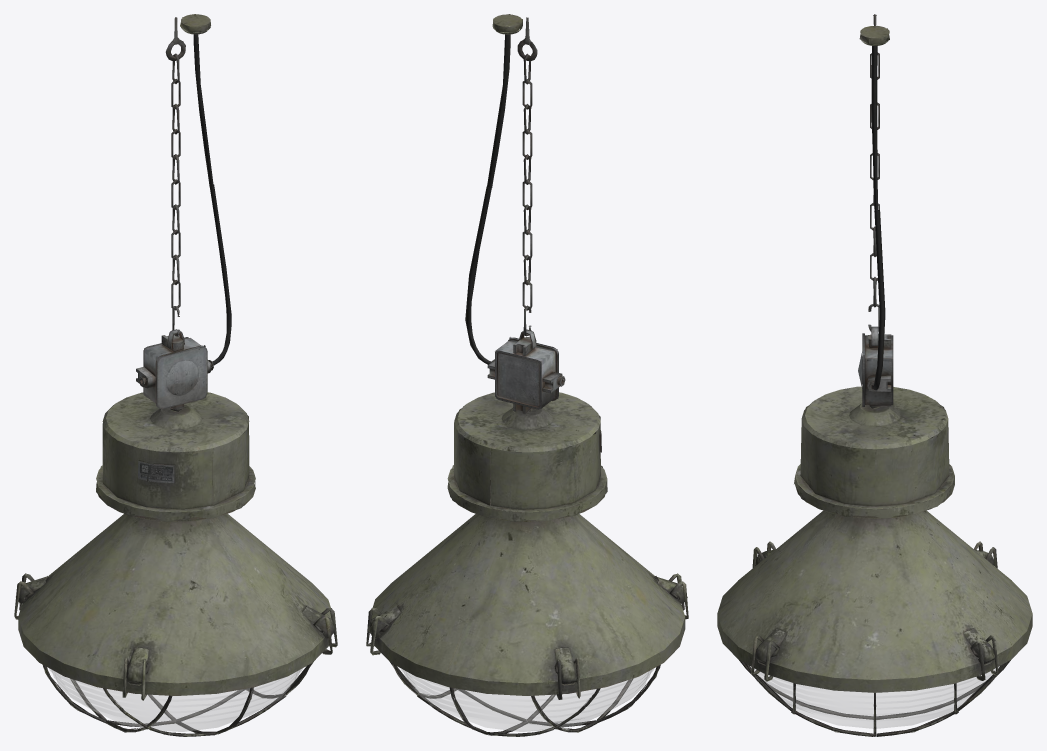
File: ph_hanging_lamp.gltf
The picture shows the model from 3 angles, left to right: view 1: azimuth 30°, elevation 25°; view 2: azimuth 150°, elevation 25°; view 3: azimuth 270°, elevation 25°; orthographic projection.
Parts seen in each view (by area): view 1: Body; view 2: Body; view 3: Body.
Boxes of the visible parts, x1,y1,x2,y2 form: Body: (14, 14, 337, 736); Body: (366, 14, 688, 736); Body: (717, 14, 1032, 736).
Size of the model in its own units: 0.5496 by 1.36 by 0.5496.
Materials: 2 (1 with a texture image).
